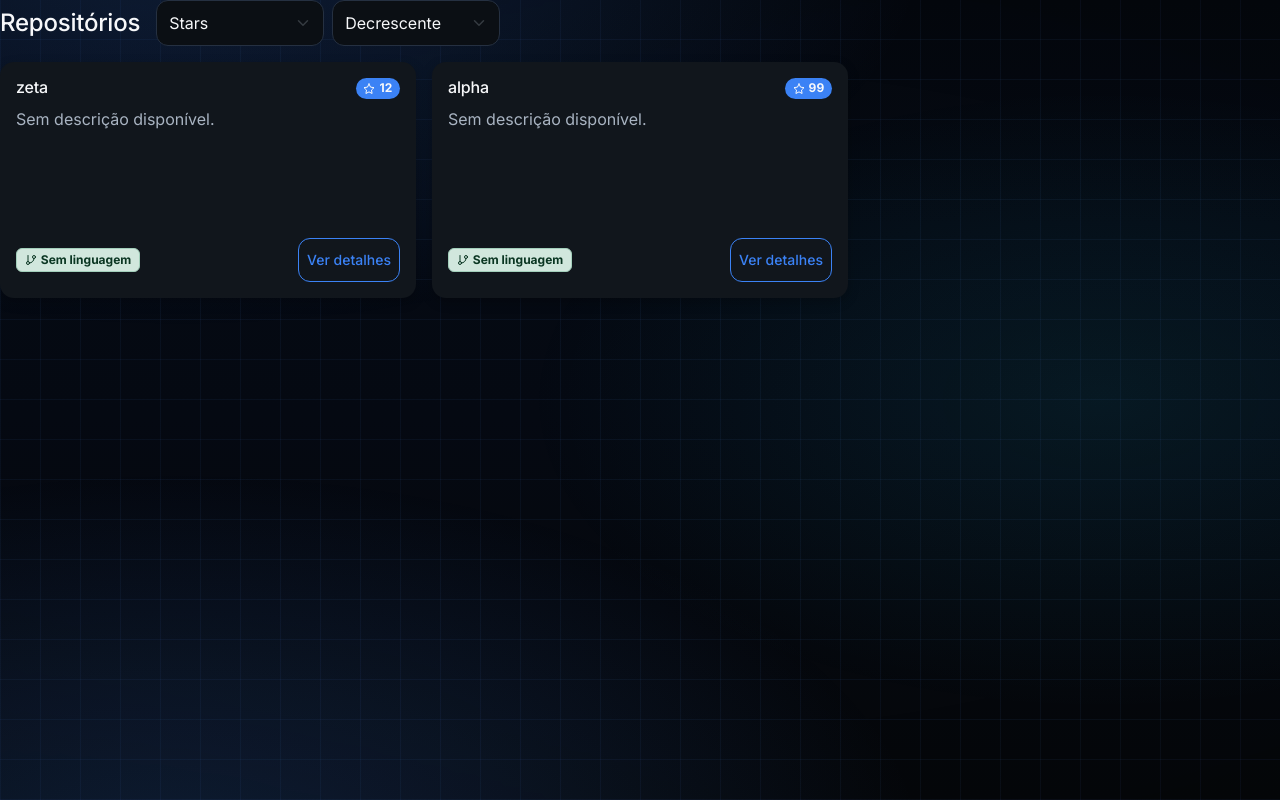
Test case: RepositoryList › fecha modal ao clicar no botão de fechar
Click the button "Ver detalhes" below "zeta": (349, 260) x1=298 y1=238 x2=400 y2=282
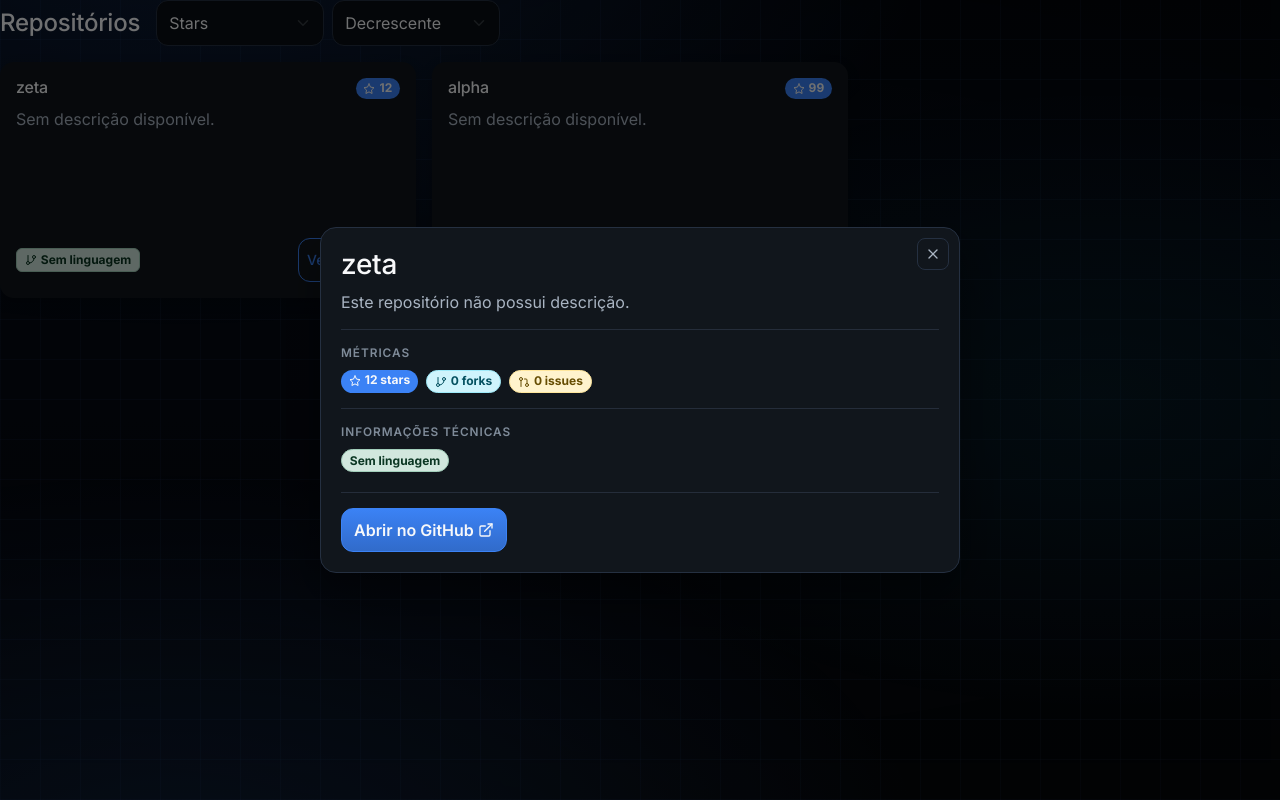
Click the button named "fechar detalhes": (933, 254) x1=917 y1=238 x2=949 y2=270
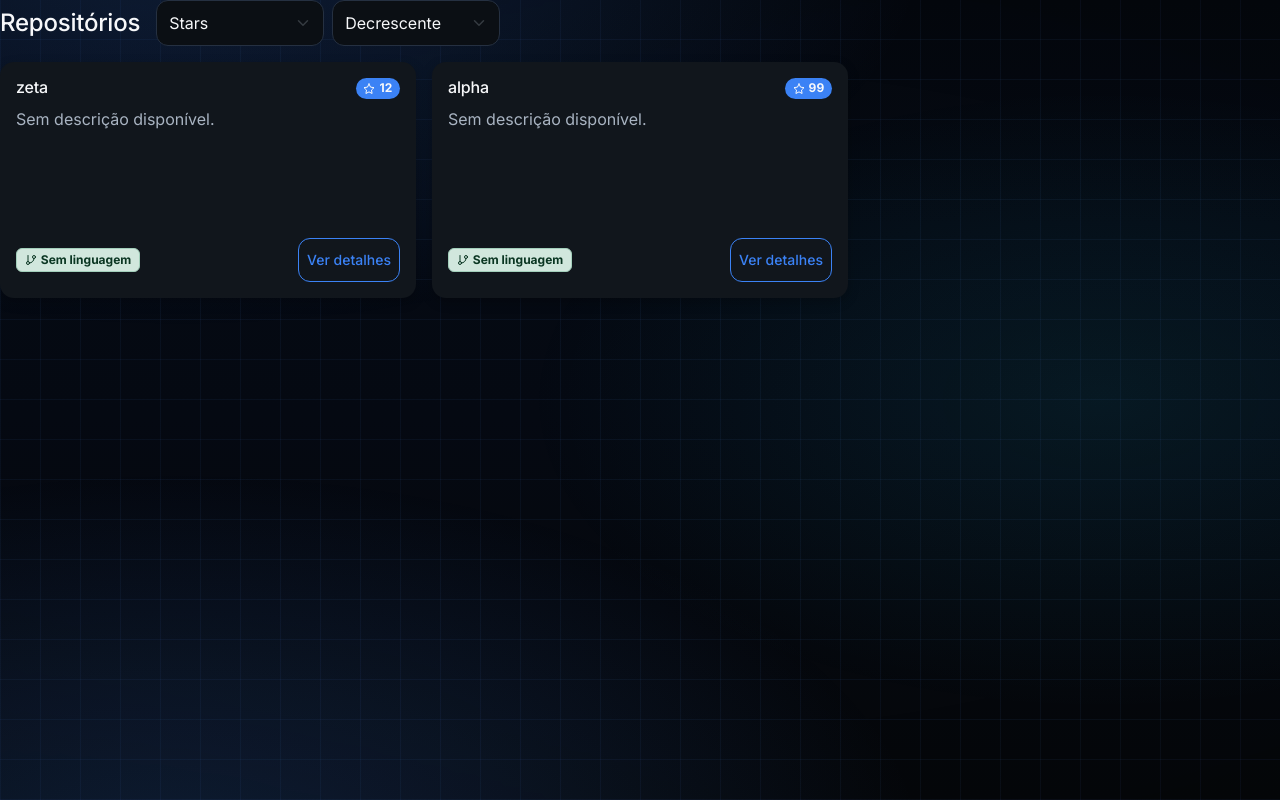
Check: the dialog is gone
